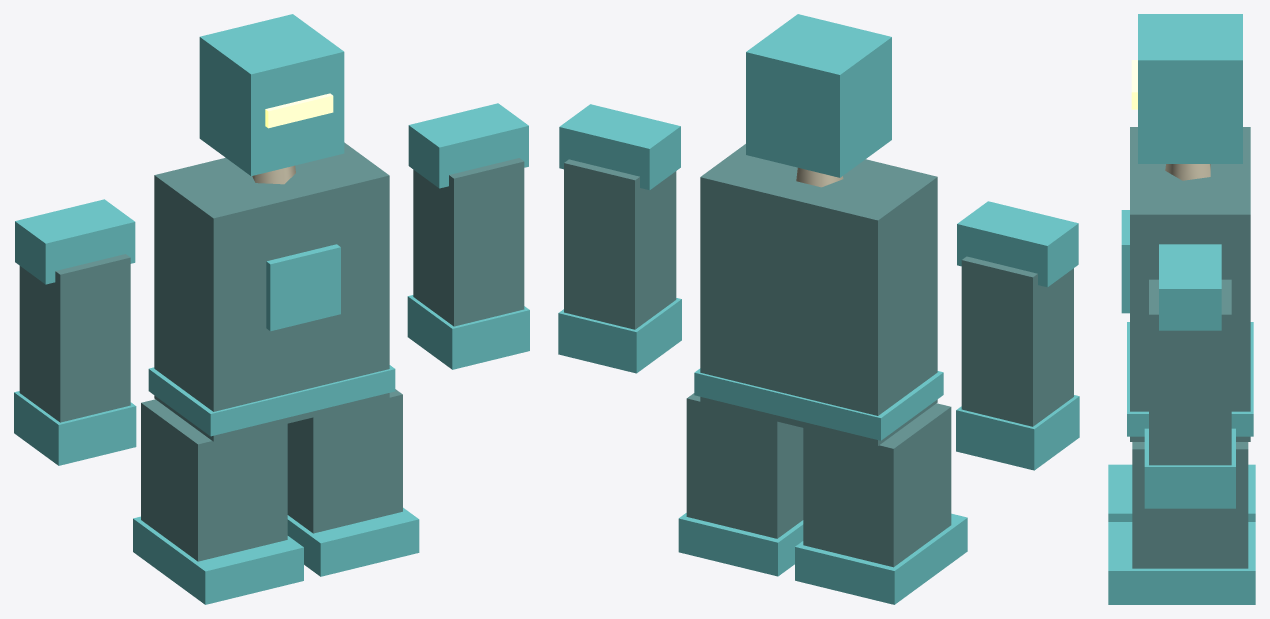
Rendered from tank.glb.
The picture shows the model from 3 angles, left to right: view 1: azimuth 30°, elevation 25°; view 2: azimuth 150°, elevation 25°; view 3: azimuth 270°, elevation 25°; orthographic projection.
Bounding box in the file's own units: 2.72 × 2.71 × 0.7056.
